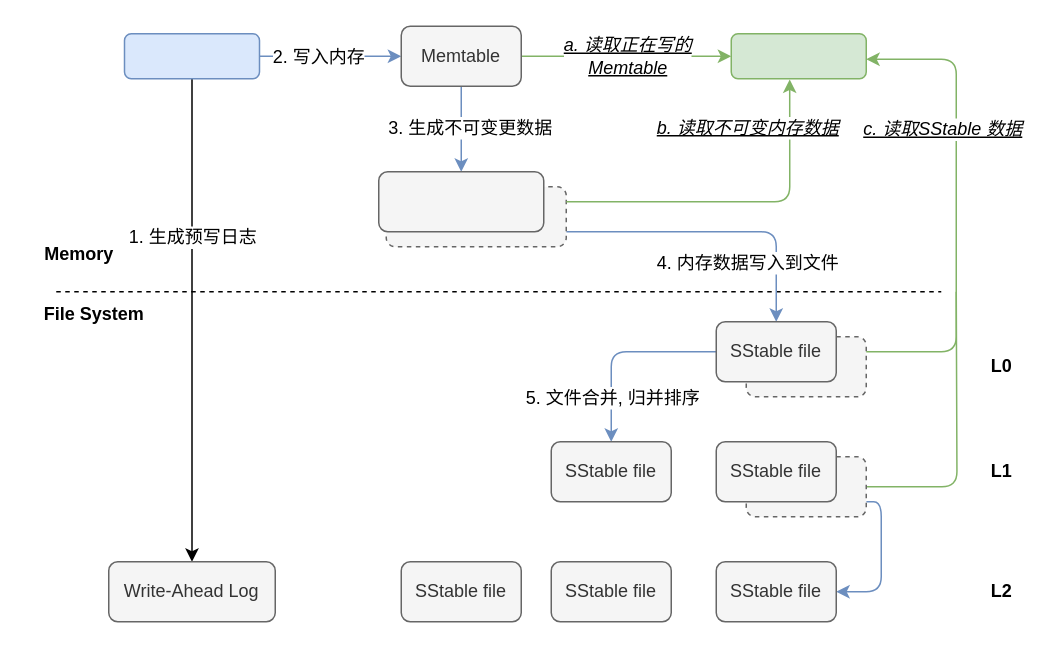
The diagram is 1056 pixels wide and 648 high, and some of its shapes have lost their labels. The centre of each missing label's shape, as x and y in pixels:
"Client Read" belongs at point 798,55.
"Client Writes" belongs at point 191,55.
"Memtable (Immutable)" belongs at point 460,201.
